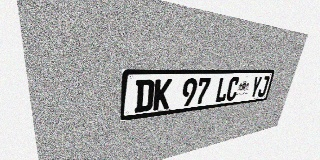7: (194, 78, 211, 105)
9: (180, 78, 198, 107)
C: (225, 77, 240, 101)
D: (134, 79, 155, 113)
J: (257, 76, 270, 97)
K: (153, 79, 172, 111)
L: (214, 77, 230, 103)
Y: (249, 76, 262, 98)
